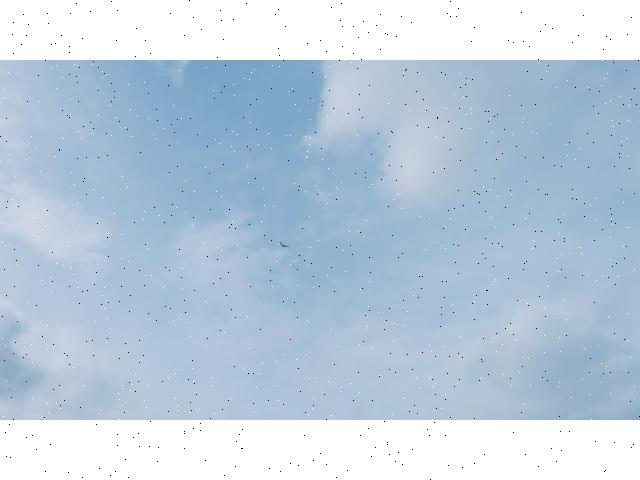Anti-Drone: (276, 238, 290, 250)
